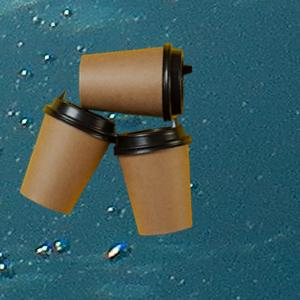cup: (18, 99, 113, 215), (114, 125, 193, 237), (78, 44, 183, 123)
